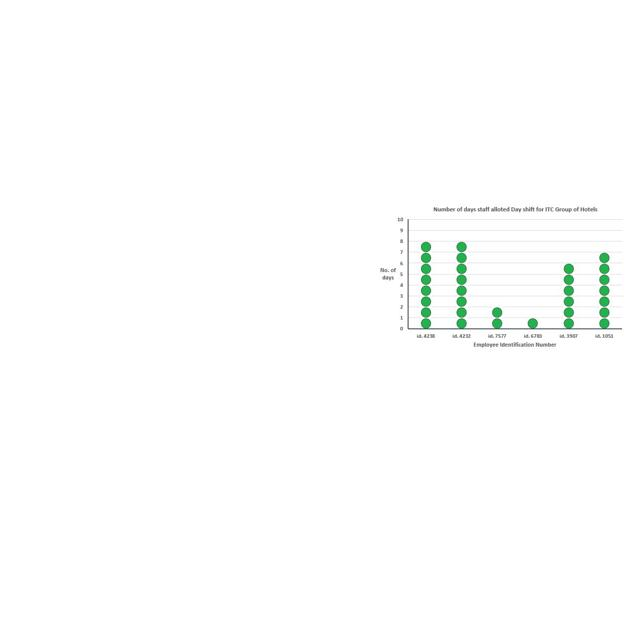Graph: (375, 200, 627, 356)
